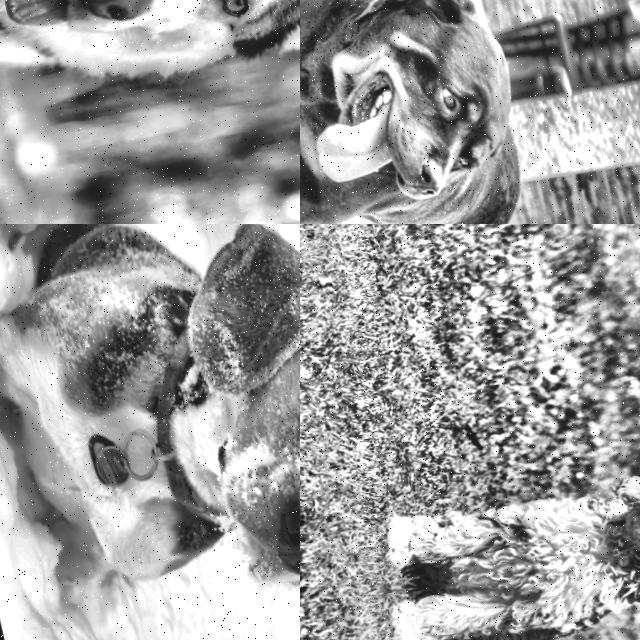beagle: (118, 224, 300, 630)
husky: (0, 0, 300, 137)
poodle: (569, 422, 640, 631)
rottweiler: (300, 0, 570, 224)
